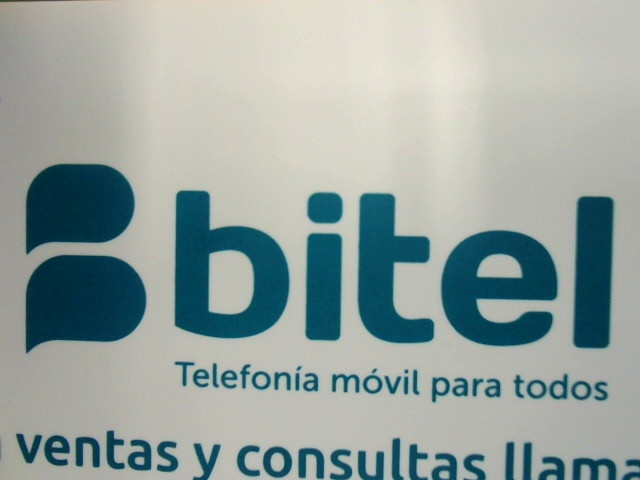BE_bitel: (9, 156, 618, 352)
